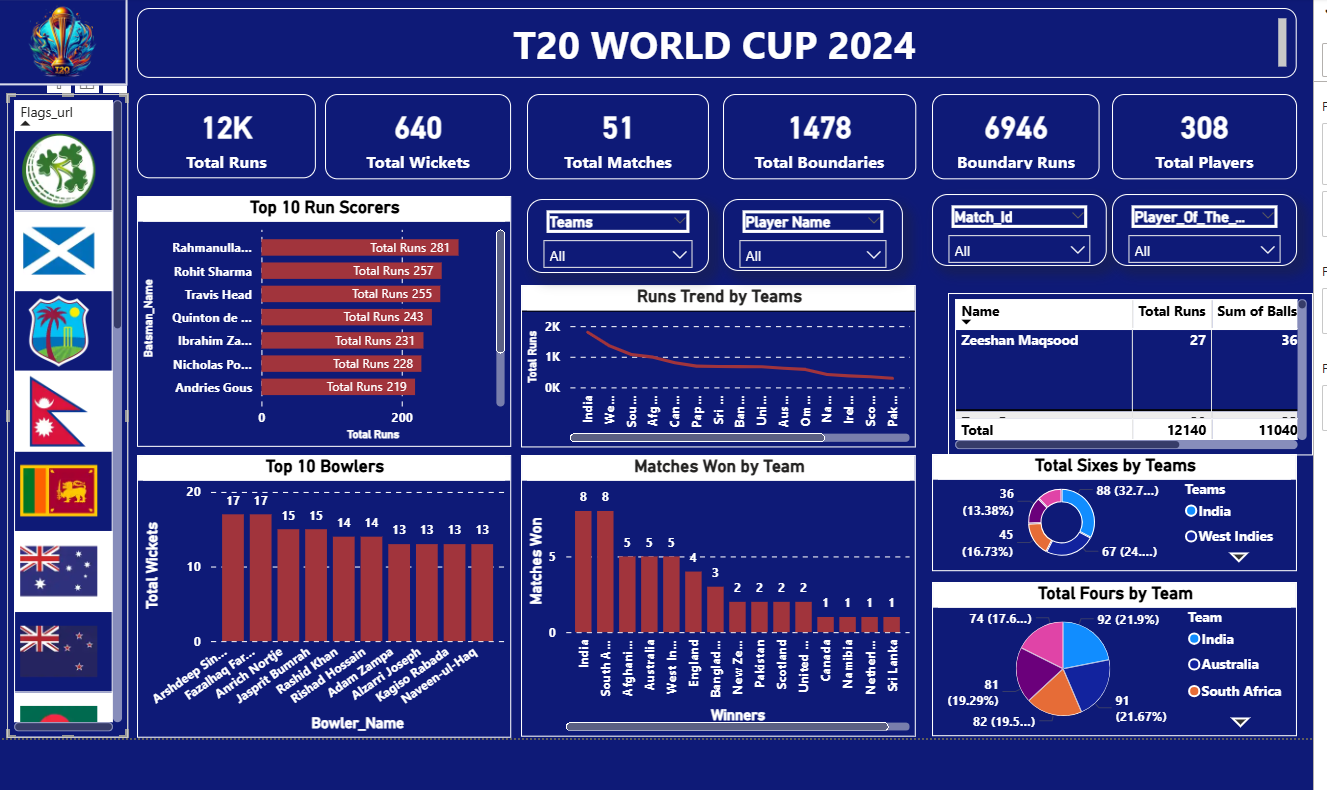

This screenshot's page, from the dashboard's own definition file:
{"tool":"powerbi","page":{"name":"Page 1","canvas":[1280,720],"ordinal":0},"visuals":[{"type":"card","fields":{"Values":["Match Summary.Total Runs"]},"box":[136.5,93.8,174,82.3],"z":0},{"type":"card","fields":{"Values":["Match Summary.Total Wickets"]},"box":[318.8,93.8,181.2,83.3],"z":1000},{"type":"card","fields":{"Values":["Match Summary.Total Matches"]},"box":[515.5,93.4,177,82.7],"z":2000},{"type":"clusteredBarChart","title":"Top 10 Run Scorers","fields":{"Category":["Batting summaries for every match.Batsman_Name"],"Y":["Match Summary.Total Runs"]},"box":[136.5,192.7,363.5,243.8],"z":3000},{"type":"card","fields":{"Values":["Match Summary.Total Boundaries"]},"box":[706.1,93.4,187.7,82.7],"z":4000},{"type":"card","fields":{"Values":["Match Summary.Boundary Runs"]},"box":[909.4,93.4,163.4,82.7],"z":5000},{"type":"clusteredColumnChart","title":"Top 10 Bowlers","fields":{"Category":["Bowling summaries for every match.Bowler_Name"],"Y":["Match Summary.Total Wickets"]},"box":[136.5,444.8,363.5,275],"z":6000},{"type":"lineChart","title":"Runs Trend by Teams","fields":{"Y":["Match Summary.Total Runs"],"Category":["Teams.Teams"]},"box":[509.7,279.1,384.2,157.6],"z":7000},{"type":"tableEx","fields":{"Values":["Player_Info with Images T20 WC 2024.Name","Match Summary.Total Runs","Sum(Batting summaries for every match.Balls)","Batting summaries for every match.Strike Rate","Player_Info with Images T20 WC 2024.Image_Url"]},"box":[925,286.9,355,157.6],"z":8000},{"type":"slicer","fields":{"Values":["Teams.Teams"]},"box":[515.5,195.5,177,72],"z":9000},{"type":"slicer","fields":{"Values":["Player_Info with Images T20 WC 2024.Name"]},"box":[706.1,195.5,175.1,70],"z":10000},{"type":"slicer","fields":{"Values":["Match Summary.Match_Id"]},"box":[909.4,190.6,170.2,70],"z":11000},{"type":"tableEx","fields":{"Values":["Teams.Flags_url"]},"box":[9.4,93.8,117.7,626],"z":12000},{"type":"card","fields":{"Values":["Match Summary.Total Players"]},"box":[1084.5,93.4,179.9,82.7],"z":13000},{"type":"slicer","fields":{"Values":["Match Summary.Player_Of_The_Match"]},"box":[1084.5,190.6,179.9,70],"z":14000},{"type":"clusteredColumnChart","title":"Matches Won by Team","fields":{"Category":["Match Summary.Winners"],"Y":["Match Summary.Matches Won"]},"box":[509.7,444.5,384.2,274.3],"z":15000},{"type":"donutChart","fields":{"Category":["Teams.Teams"],"Y":["Match Summary.Total Sixes"]},"box":[909.4,443.5,355,113.8],"z":16000},{"type":"pieChart","fields":{"Y":["Match Summary.Total Fours"],"Category":["Player_Info with Images T20 WC 2024.Team"]},"box":[909.4,568,355,149.8],"z":17000},{"type":"image","box":[0,0,127.1,85.4],"z":18000},{"type":"textbox","box":[136.2,9.7,1128.3,68.1],"z":19000}]}

Visuals, with their boxes on the page's 1280x720 design canvas (x1, y1, x2, y2). These are canvas units, not pixel positions in the 1327x790 screenshot, which may show the page scaled, cropped or inside an application window:
card - Match Summary.Total Runs: [136,94,310,176]
card - Match Summary.Total Wickets: [319,94,500,177]
card - Match Summary.Total Matches: [516,93,692,176]
"Top 10 Run Scorers" clusteredBarChart: [136,193,500,436]
card - Match Summary.Total Boundaries: [706,93,894,176]
card - Match Summary.Boundary Runs: [909,93,1073,176]
"Top 10 Bowlers" clusteredColumnChart: [136,445,500,720]
"Runs Trend by Teams" lineChart: [510,279,894,437]
tableEx - Player_Info with Images T20 WC 2024.Name x Match Summary.Total Runs: [925,287,1280,444]
slicer - Teams.Teams: [516,196,692,268]
slicer - Player_Info with Images T20 WC 2024.Name: [706,196,881,266]
slicer - Match Summary.Match_Id: [909,191,1080,261]
tableEx - Teams.Flags_url: [9,94,127,720]
card - Match Summary.Total Players: [1084,93,1264,176]
slicer - Match Summary.Player_Of_The_Match: [1084,191,1264,261]
"Matches Won by Team" clusteredColumnChart: [510,444,894,719]
donutChart - Teams.Teams x Match Summary.Total Sixes: [909,444,1264,557]
pieChart - Match Summary.Total Fours x Player_Info with Images T20 WC 2024.Team: [909,568,1264,718]
image: [0,0,127,85]
textbox: [136,10,1264,78]
